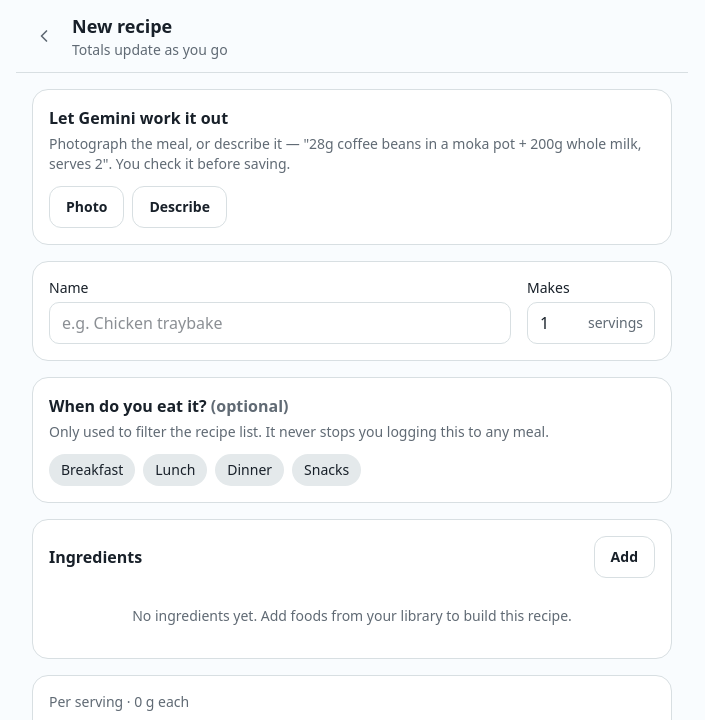
RecipeEditPage — ingredient picker › offers a way back to the recipe from the picker
The image size is (705, 720).
Step 1. Click the button "Add" → click(624, 557), box [594,536,655,578]
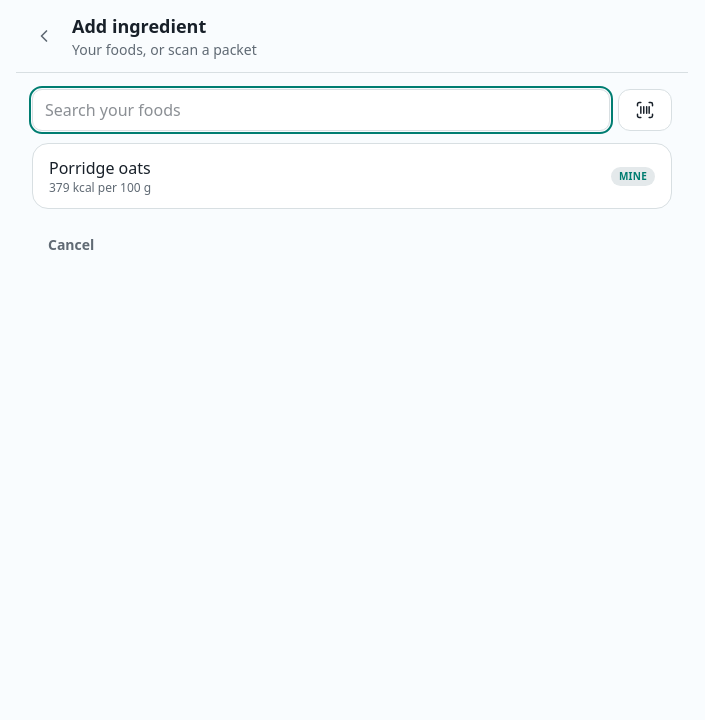
Result: the heading "Add ingredient" is shown at [72,14,206,38]
Step 2. Click the button named "Back" → click(44, 36), box [28,20,60,52]
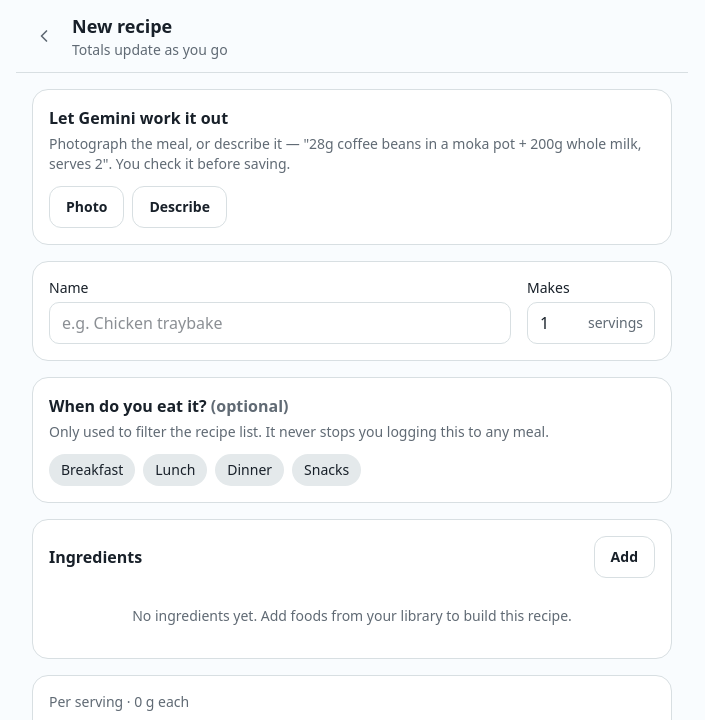
Result: the heading "New recipe" is shown at [72,14,172,38]
